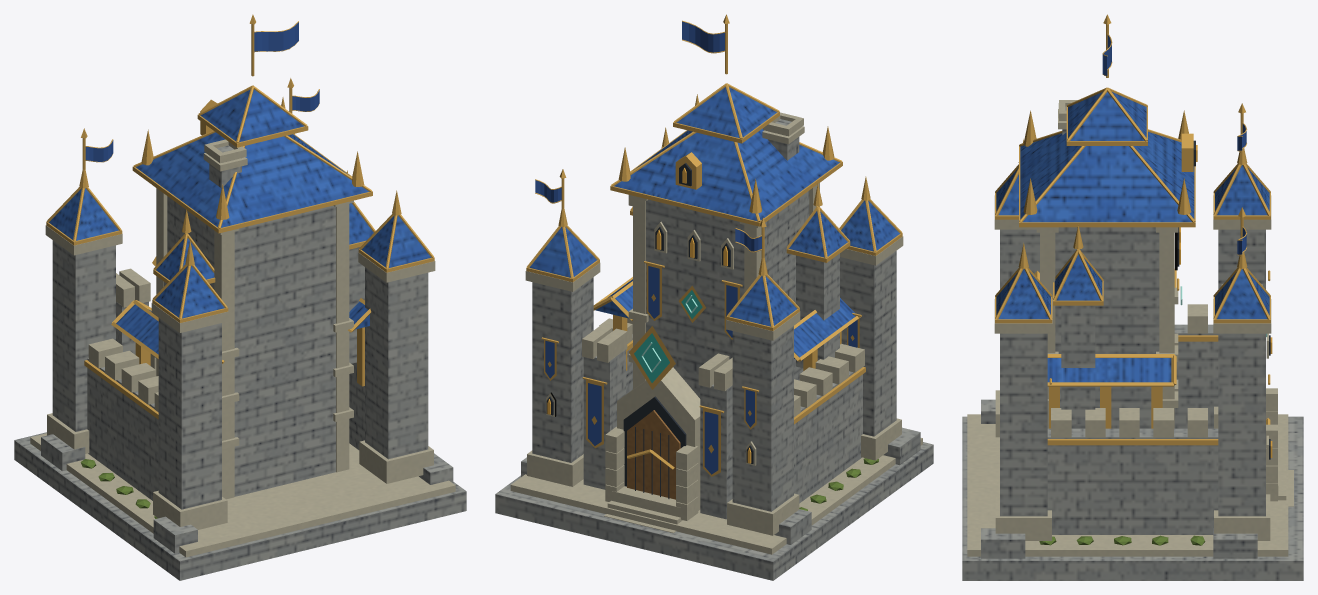
File: Keep_3.fbx
3 views of the same model, side by side, from view 1: azimuth 30°, elevation 25°; view 2: azimuth 150°, elevation 25°; view 3: azimuth 270°, elevation 25° (orthographic). The views are drawn at different scales.
Visible parts, largest first — view 1: BuildingBody, FlagCloth_00; view 2: BuildingBody, FlagCloth_00; view 3: BuildingBody.
Boxes of the visible parts, x1,y1,x2,y2 form: BuildingBody: [14, 14, 466, 580]; FlagCloth_00: [254, 21, 298, 52]; BuildingBody: [495, 14, 933, 580]; FlagCloth_00: [682, 20, 725, 53]; BuildingBody: [962, 14, 1303, 580].
Size of the model in its own units: 1 by 1.6 by 1.
1 material, 1 textured.
